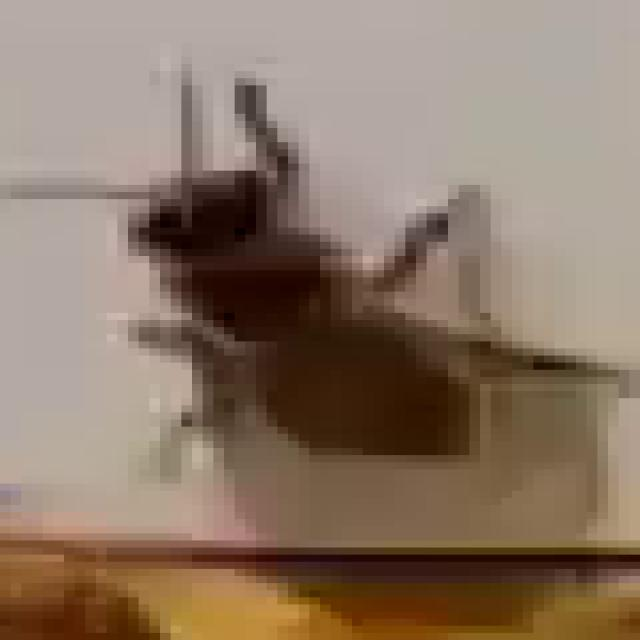honeybee: (120, 102, 551, 481)
